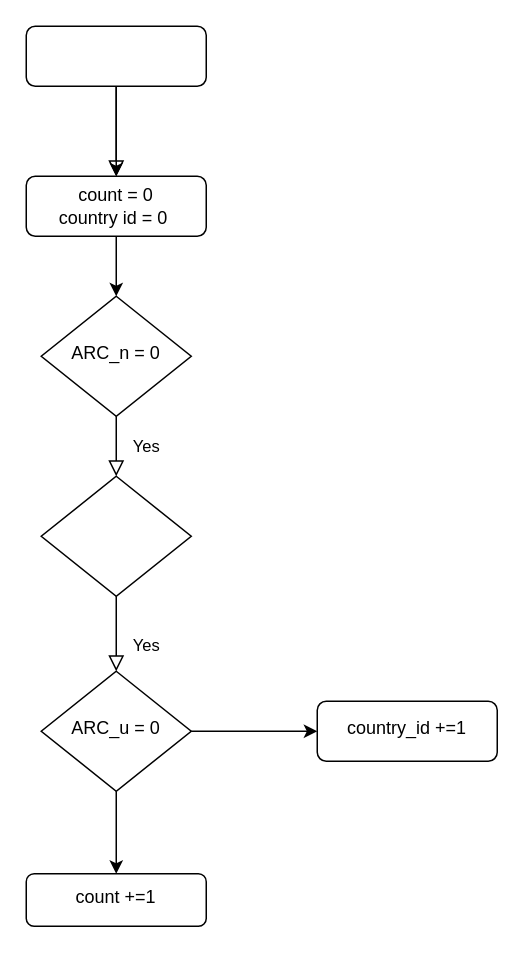
Some shapes in this 524 by 953 pixel diagram are drawn without their labels. Each missing label, with the centre of its shape:
"ARC_r = 0" belongs at point (115, 535).
"START" belongs at point (115, 55).
